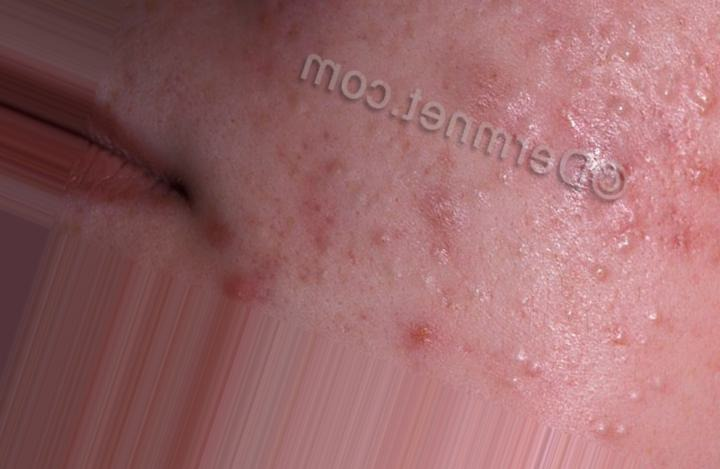Acne: (154, 34, 709, 403)
